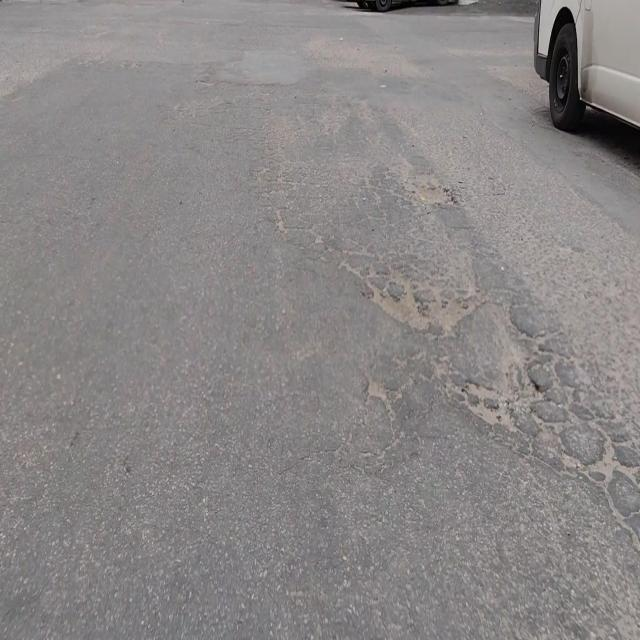Potholes: (454, 353, 551, 433), (365, 278, 483, 339), (415, 180, 459, 207)
